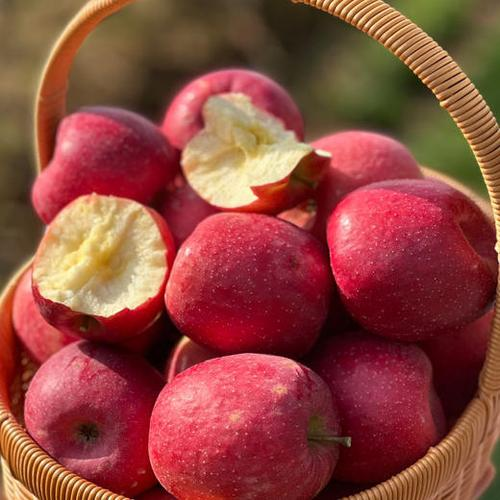ripe: (134, 349, 357, 500), (315, 176, 499, 342), (161, 208, 341, 371), (15, 338, 159, 500), (153, 62, 306, 191), (27, 101, 180, 228)
